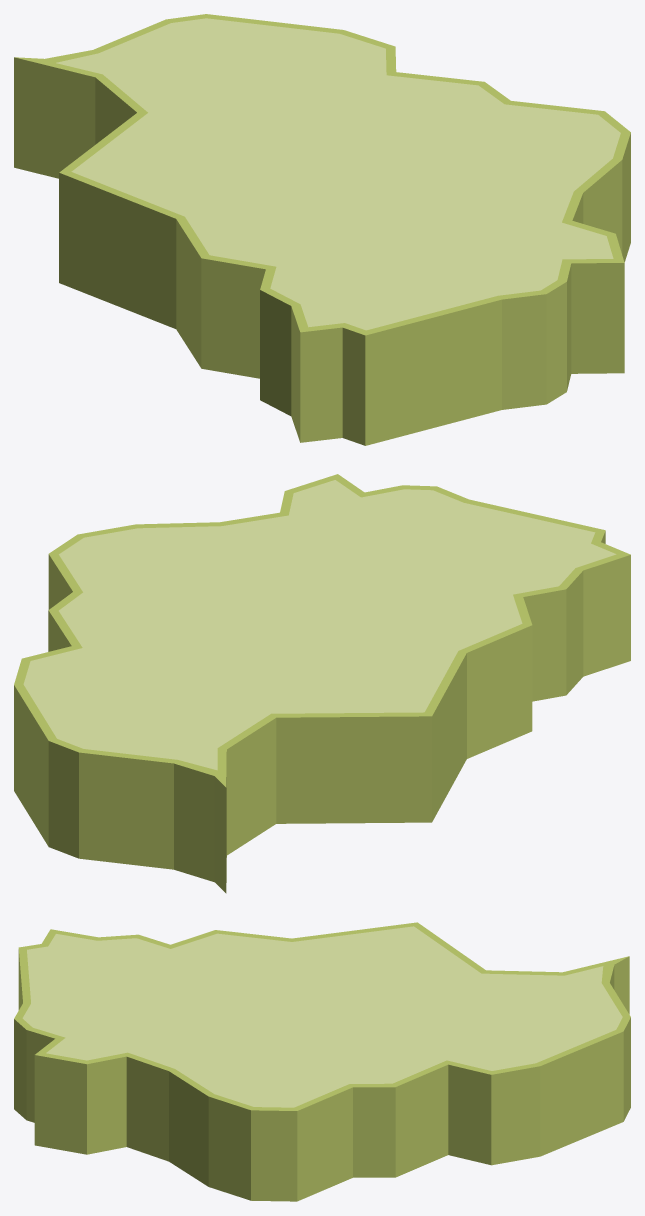
File: Islands3.007.fbx
The picture shows the model from 3 angles, top to bottom: view 1: azimuth 30°, elevation 25°; view 2: azimuth 150°, elevation 25°; view 3: azimuth 270°, elevation 25°; orthographic projection. The views are drawn at different scales.
Visible parts, largest first — view 1: Island3.007; view 2: Island3.007; view 3: Island3.007.
Part boxes in pixels (bbox=[...]): Island3.007: bbox=[14, 14, 630, 445]; Island3.007: bbox=[14, 474, 630, 893]; Island3.007: bbox=[14, 922, 630, 1201].
Size of the model in its own units: 112 by 25 by 155.
